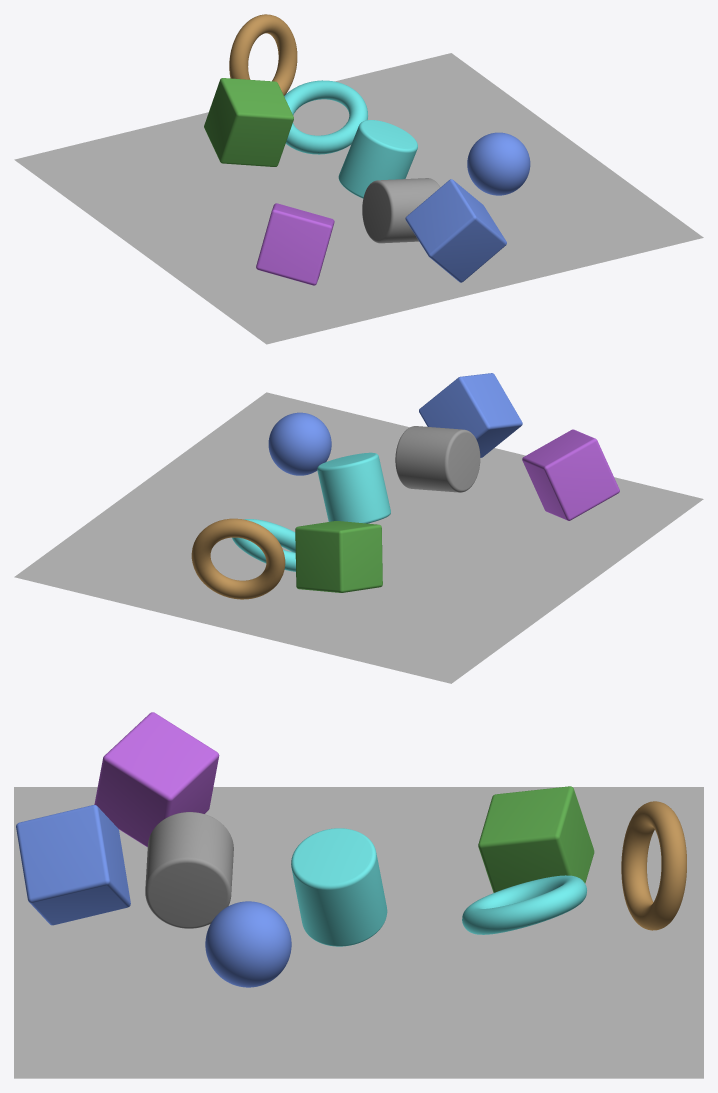
3 renders of one model, top to bottom at view 1: azimuth 30°, elevation 25°; view 2: azimuth 150°, elevation 25°; view 3: azimuth 270°, elevation 25°, orthographic. The views are drawn at different scales.
Visible parts, largest first — view 1: Cube, FileBasedObject.007, FileBasedObject.002, FileBasedObject.003, FileBasedObject.006, FileBasedObject.001, FileBasedObject.004, FileBasedObject, FileBasedObject.005; view 2: Cube, FileBasedObject.007, FileBasedObject.003, FileBasedObject.001, FileBasedObject.002, FileBasedObject.006, FileBasedObject.005, FileBasedObject, FileBasedObject.004; view 3: Cube, FileBasedObject.002, FileBasedObject.003, FileBasedObject.007, FileBasedObject.006, FileBasedObject.001, FileBasedObject.005, FileBasedObject, FileBasedObject.004.
Boxes of the visible parts, left/top/right/bottom form: Cube: left=14, top=53, right=703, bottom=344; FileBasedObject.007: left=204, top=78, right=293, bottom=166; FileBasedObject.002: left=405, top=179, right=506, bottom=282; FileBasedObject.003: left=256, top=203, right=334, bottom=285; FileBasedObject.006: left=338, top=120, right=417, bottom=198; FileBasedObject.001: left=362, top=178, right=440, bottom=243; FileBasedObject.004: left=284, top=80, right=367, bottom=154; FileBasedObject: left=467, top=132, right=530, bottom=195; FileBasedObject.005: left=229, top=14, right=297, bottom=95; Cube: left=14, top=392, right=703, bottom=683; FileBasedObject.007: left=295, top=521, right=382, bottom=592; FileBasedObject.003: left=522, top=429, right=619, bottom=520; FileBasedObject.001: left=395, top=426, right=480, bottom=492; FileBasedObject.002: left=419, top=373, right=522, bottom=457; FileBasedObject.006: left=317, top=452, right=390, bottom=523; FileBasedObject.005: left=191, top=518, right=285, bottom=599; FileBasedObject: left=268, top=412, right=331, bottom=475; FileBasedObject.004: left=232, top=519, right=295, bottom=571; Cube: left=14, top=787, right=703, bottom=1078; FileBasedObject.002: left=16, top=805, right=130, bottom=925; FileBasedObject.003: left=94, top=712, right=219, bottom=846; FileBasedObject.007: left=478, top=786, right=594, bottom=892; FileBasedObject.006: left=291, top=828, right=387, bottom=946; FileBasedObject.001: left=145, top=812, right=233, bottom=928; FileBasedObject.005: left=621, top=801, right=686, bottom=930; FileBasedObject: left=205, top=901, right=291, bottom=987; FileBasedObject.004: left=462, top=875, right=586, bottom=934.
Bounding box in the file's own units: 8 × 1.7 × 8.
